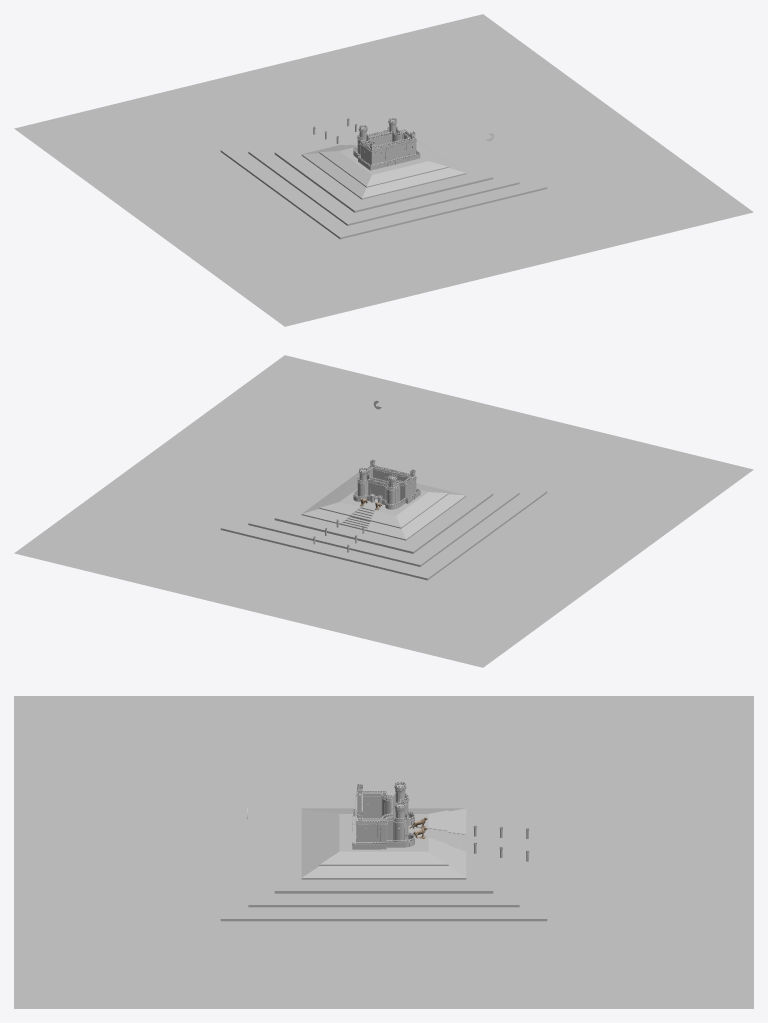
The model's file is utubecastle.fbx.
3 views of the same model, one above another, from view 1: azimuth 30°, elevation 25°; view 2: azimuth 150°, elevation 25°; view 3: azimuth 270°, elevation 25° (orthographic). The views are drawn at different scales.
Visible parts, largest first — view 1: Plane.023; view 2: Plane.023; view 3: Plane.023.
Part boxes in pixels (x1,y1,x2,y2): Plane.023: (14, 14, 753, 326); Plane.023: (14, 355, 753, 667); Plane.023: (14, 696, 753, 1008).
Size of the model in its own units: 4288 by 527 by 4288.
